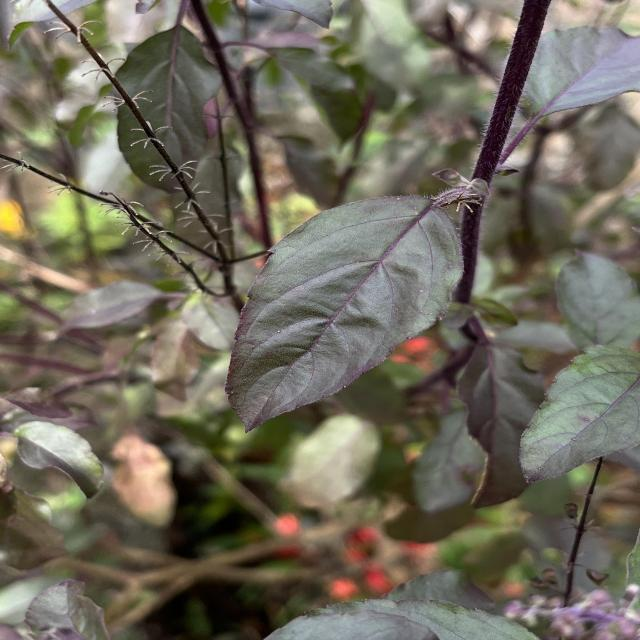Ocimum tenuiflorum: (224, 192, 466, 436)
